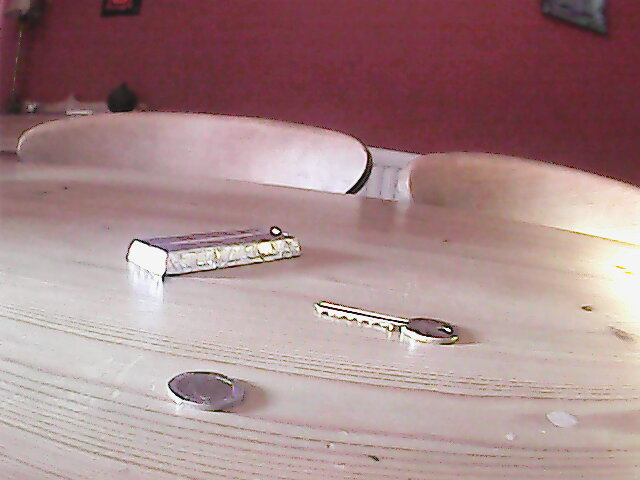Coin: (165, 368, 250, 412)
Foil: (125, 227, 303, 279)
Key: (309, 296, 460, 349)
